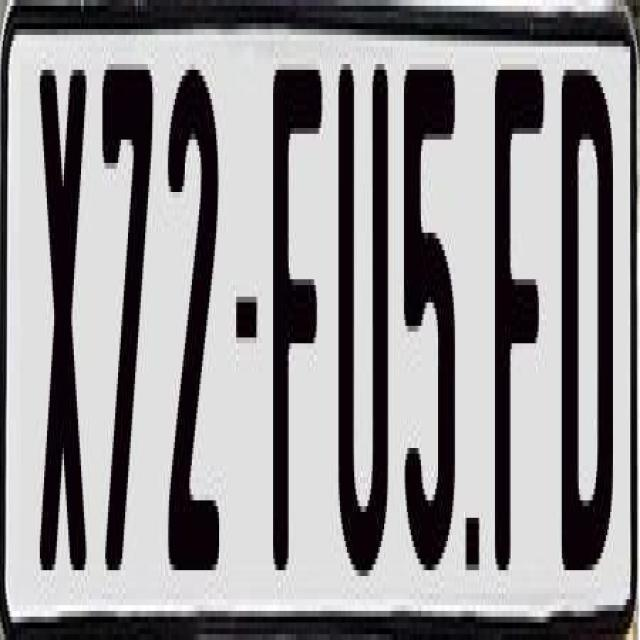2: (166, 52, 226, 576)
5: (401, 63, 457, 600)
7: (98, 52, 148, 576)
D: (560, 58, 612, 576)
F: (490, 64, 540, 588), (272, 52, 321, 558)
U: (337, 46, 391, 588)
X: (40, 52, 91, 570)
